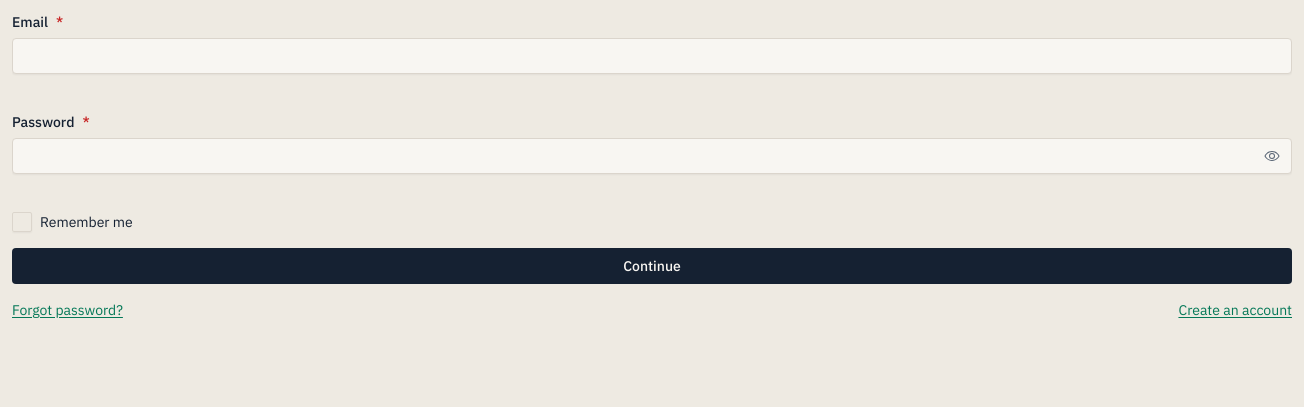
Test: LoginForm › shows exactly one failure message on a rejected submission — a Banner, never also a toast
This screenshot has width=1304, height=407.
In the field labelled "Email *": (652,56) [12,38,1292,74], type "a@b.com"
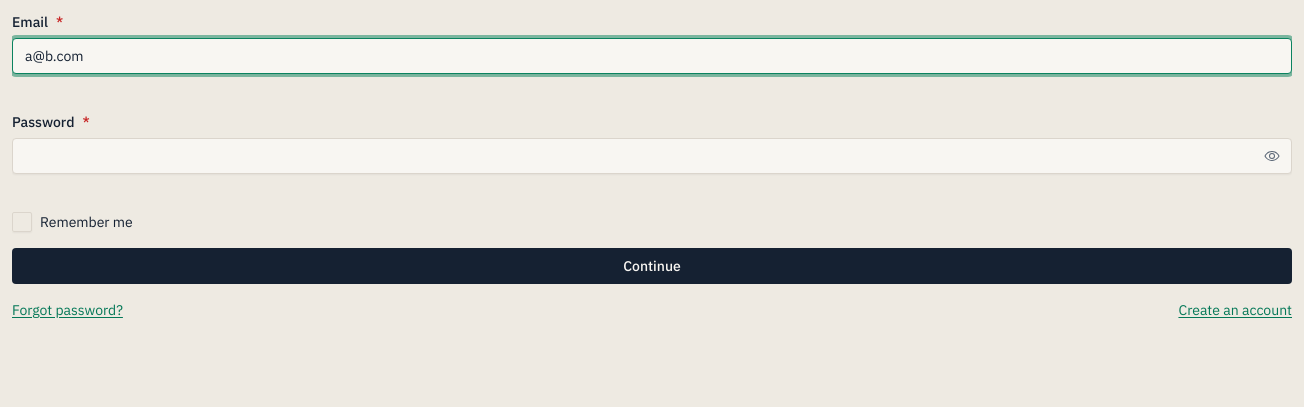
In the password field labelled "Password *": (652,156) [12,138,1292,174], type "wrong-password"
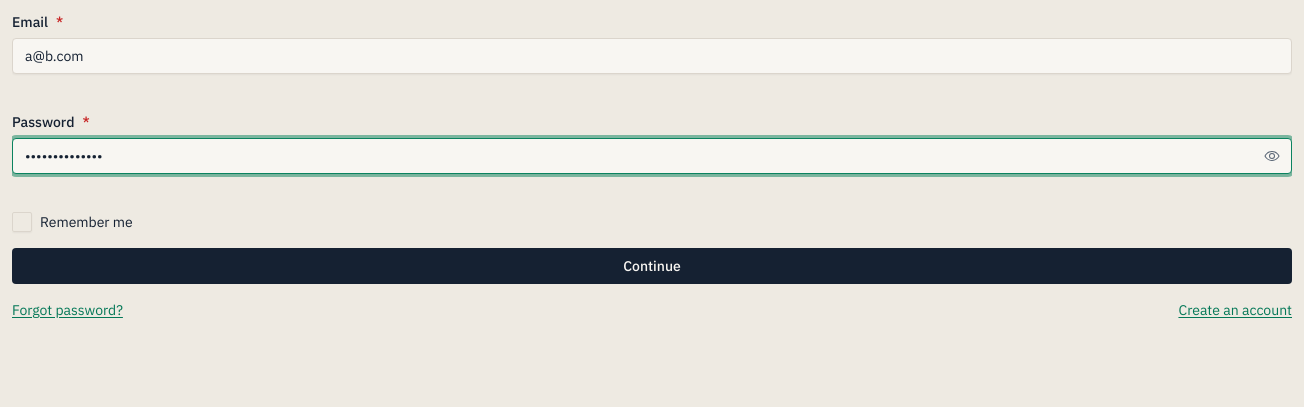
Click the button "Continue": (652,266) [12,248,1292,284]
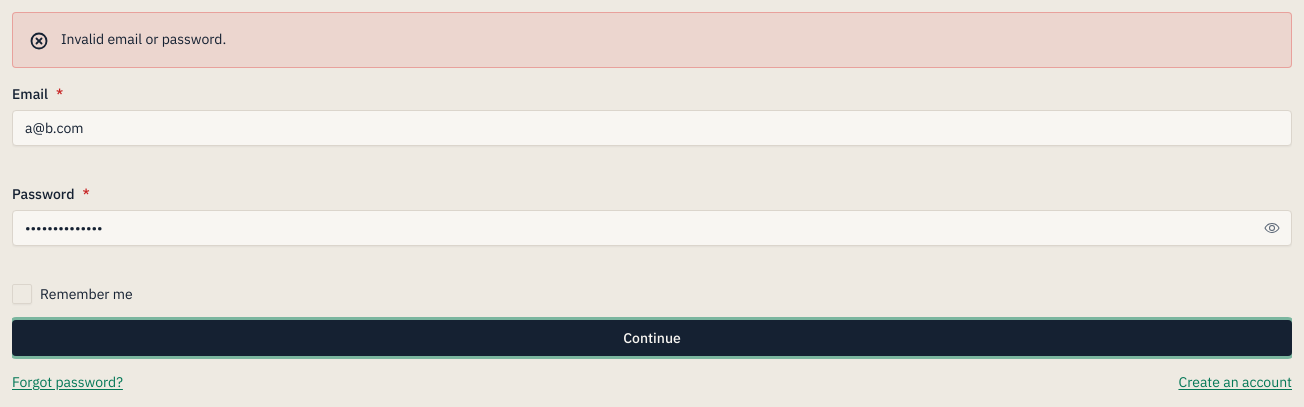
Check: the message reads "Invalid email or password.", box [61,30,226,48]
